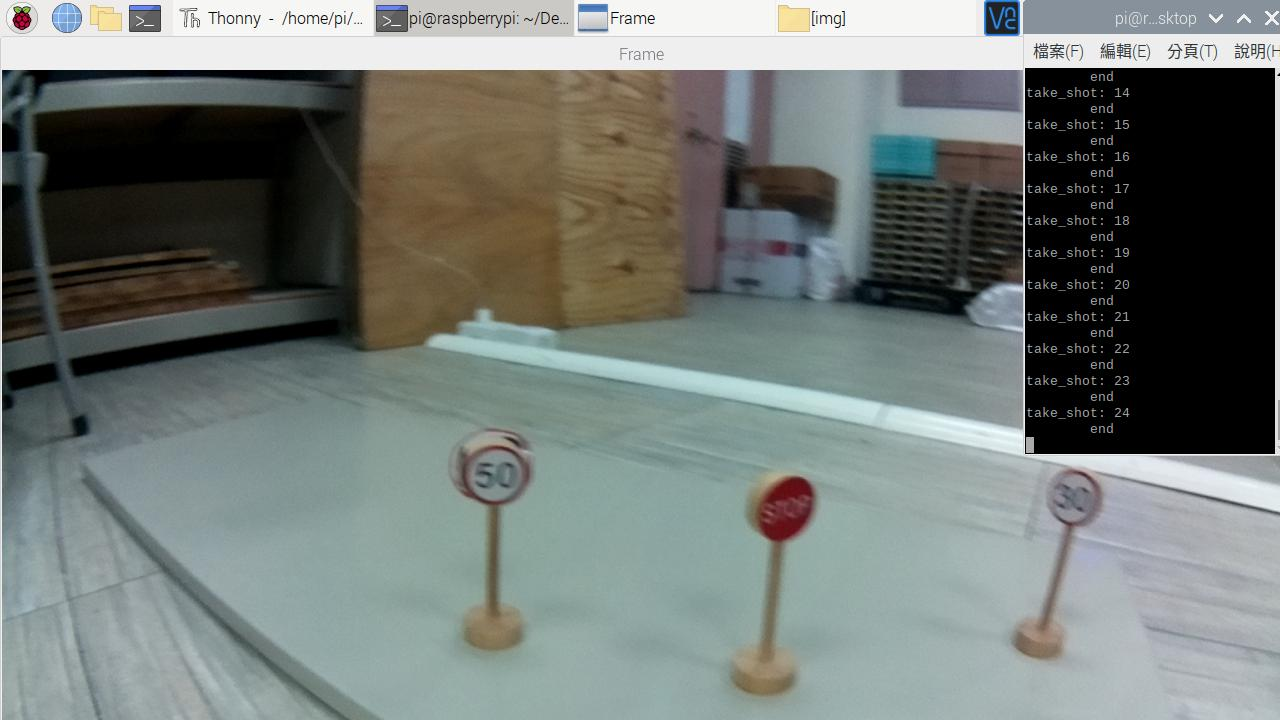Speed30: (1045, 464, 1105, 526)
Speed50: (458, 438, 535, 504)
Stop: (749, 472, 818, 540)
